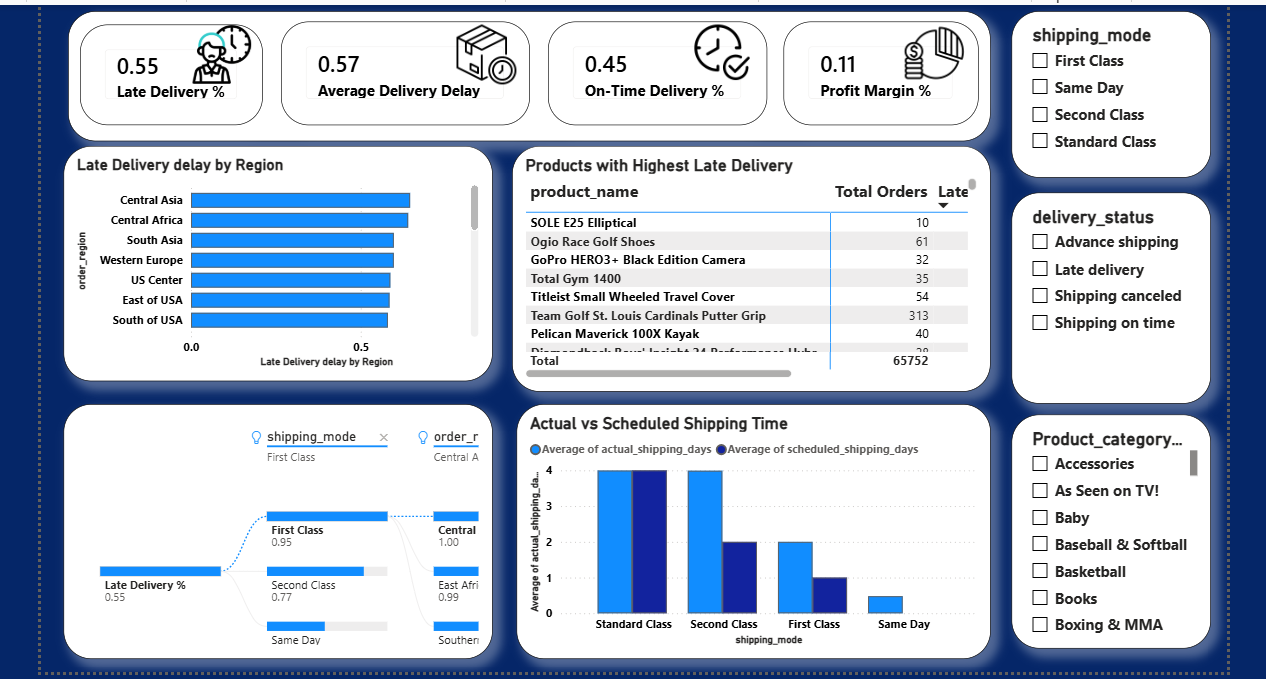

Layout of this report page (visuals, bound fields, positions):
{"tool":"powerbi","page":{"name":"Problem Diagnosis","canvas":[1280,720],"ordinal":2},"visuals":[{"type":"pivotTable","title":"Products with Highest Late Delivery","fields":{"Rows":["supply_chain fact_supply_chain.product_name"],"Values":["All measures.Total Orders","All measures.Late Delivery %"]},"box":[508.4,152.2,516.5,265.6],"z":0},{"type":"clusteredColumnChart","title":"Actual vs Scheduled Shipping Time","fields":{"Category":["supply_chain dim_shipping.shipping_mode"],"Y":["Avg(supply_chain fact_supply_chain.actual_shipping_days)","Avg(supply_chain fact_supply_chain.scheduled_shipping_days)"]},"box":[513.3,430.7,511.7,275.3],"z":1000},{"type":"clusteredBarChart","title":"Late Delivery delay by Region","fields":{"Category":["supply_chain fact_supply_chain.order_region"],"Y":["All measures.Average Delivery Delay"]},"box":[24.3,152.2,463.1,254.2],"z":2000},{"type":"decompositionTreeVisual","fields":{"Analyze":["All measures.Late Delivery %"],"ExplainBy":["supply_chain dim_shipping.shipping_mode","supply_chain fact_supply_chain.order_region","supply_chain fact_supply_chain.product_name"]},"box":[24.3,430.7,463.1,275.3],"z":3000},{"type":"textbox","box":[29.1,6.5,995.8,140.9],"z":4000},{"type":"cardVisual","fields":{"Data":["All measures.Late Delivery %"]},"box":[42.1,21,197.5,108.5],"z":5000},{"type":"cardVisual","fields":{"Data":["All measures.Average Delivery Delay"]},"box":[259.1,17.8,268.8,111.7],"z":6000},{"type":"cardVisual","fields":{"Data":["All measures.On-Time Delivery %"]},"box":[547.3,17.8,236.4,111.7],"z":7000},{"type":"cardVisual","fields":{"Data":["All measures.Profit Margin %"]},"box":[801.5,17.8,210.5,111.7],"z":8000},{"type":"slicer","fields":{"Values":["supply_chain fact_supply_chain.shipping_mode"]},"box":[1047.6,6.5,215.4,179.7],"z":9000},{"type":"slicer","fields":{"Values":["supply_chain dim_product.category_name"]},"box":[1047.6,442,215.4,252.6],"z":10000},{"type":"slicer","fields":{"Values":["supply_chain fact_supply_chain.delivery_status"]},"box":[1047.6,202.4,215.4,228.3],"z":11000},{"type":"image","box":[686.6,21,97.2,59.9],"z":11001},{"type":"image","box":[903.5,17.8,121.4,68],"z":11002},{"type":"image","box":[414.5,21,132.8,64.8],"z":11003},{"type":"image","box":[163.5,21,63.1,64.8],"z":11004}]}

Visuals, with their boxes in screenshot pixels (x1, y1, x2, y2):
"Products with Highest Late Delivery" pivotTable: [506,138,986,385]
"Actual vs Scheduled Shipping Time" clusteredColumnChart: [510,397,986,653]
"Late Delivery delay by Region" clusteredBarChart: [56,138,486,375]
decompositionTreeVisual - All measures.Late Delivery % x supply_chain dim_shipping.shipping_mode: [56,397,486,653]
textbox: [60,3,986,134]
cardVisual - All measures.Late Delivery %: [72,16,256,117]
cardVisual - All measures.Average Delivery Delay: [274,13,524,117]
cardVisual - All measures.On-Time Delivery %: [542,13,762,117]
cardVisual - All measures.Profit Margin %: [779,13,974,117]
slicer - supply_chain fact_supply_chain.shipping_mode: [1007,3,1208,170]
slicer - supply_chain dim_product.category_name: [1007,408,1208,643]
slicer - supply_chain fact_supply_chain.delivery_status: [1007,185,1208,397]
image: [672,16,762,72]
image: [873,13,986,77]
image: [419,16,542,77]
image: [185,16,244,77]
